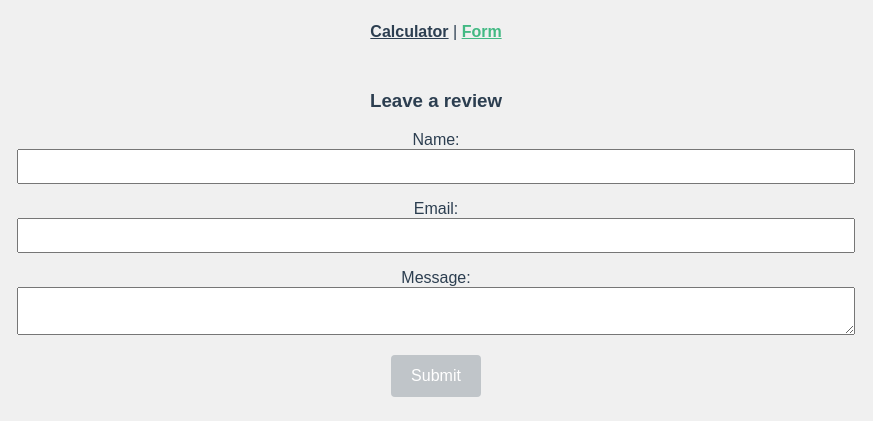
Test case: Contact Form › Form is submitted sucessfully with valid data
The image size is (873, 421).
In the field with id "name": [437, 167] box [17,149,856,184], type "Ola Nordmann"
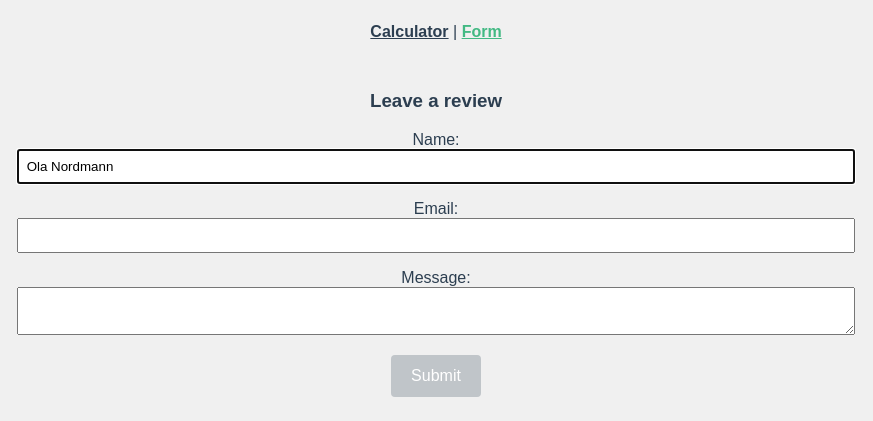
In the field with id "email": [437, 236] box [17,218,856,253], type "ola-normann@gmail.com"
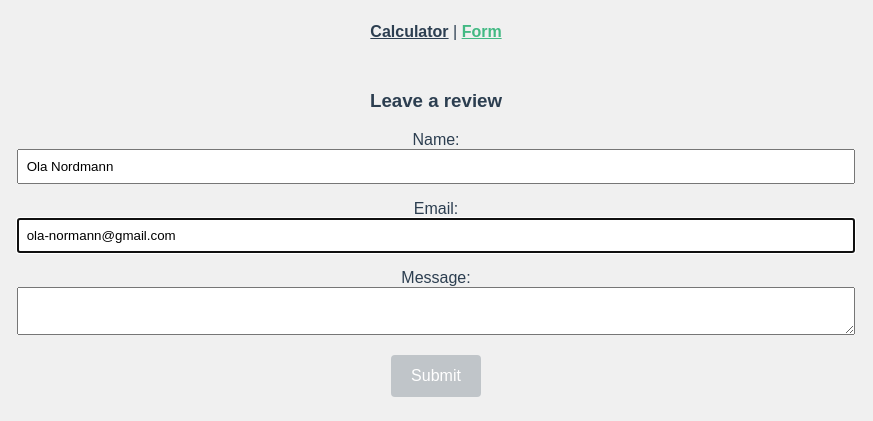
In the text box with id "message": [437, 311] box [17,287,856,335], type "Fredager er for TACO!"
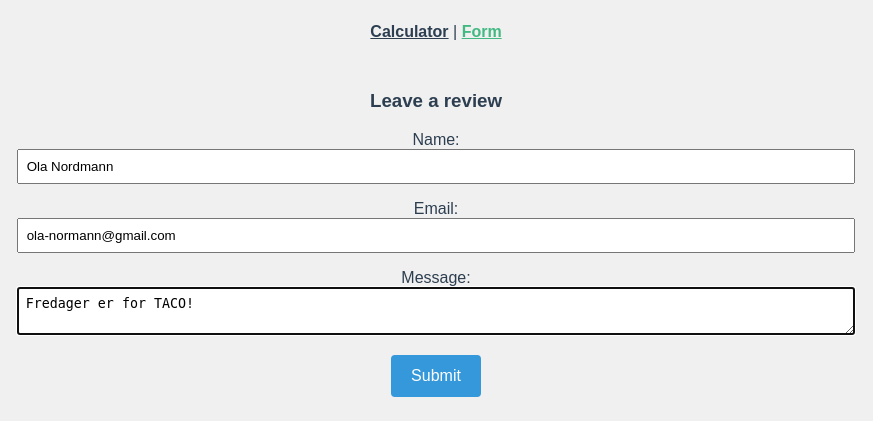
Click the button with class "submit-button": [436, 376] box [391,355,481,397]
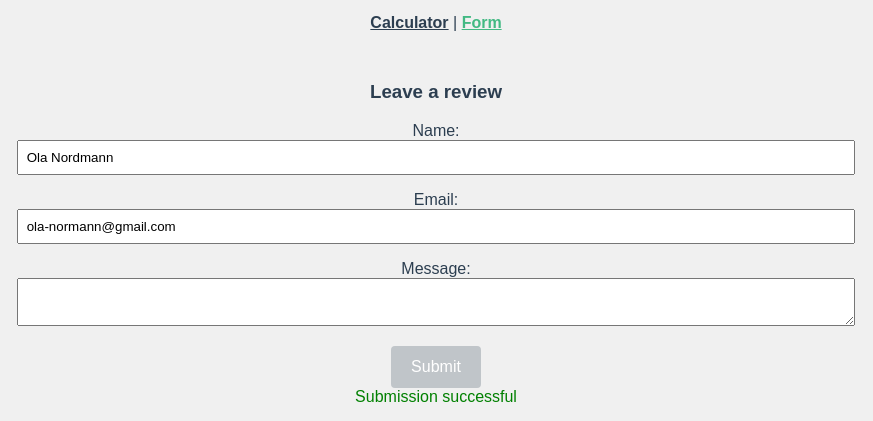
Result: the text "Submission successful" is shown at [355,388,517,405]
